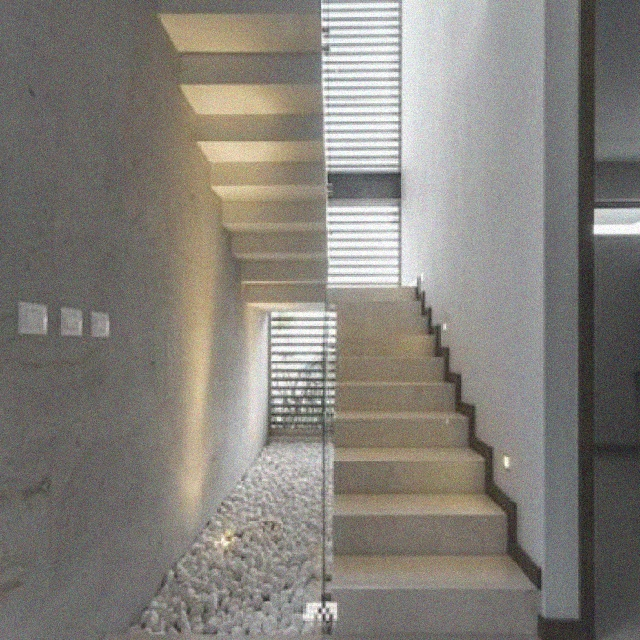stair: (318, 232, 544, 630), (154, 9, 335, 314)
